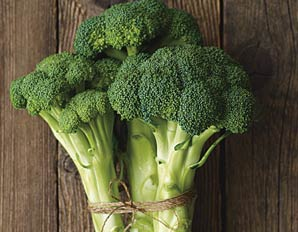broccoli: (12, 2, 252, 231)
